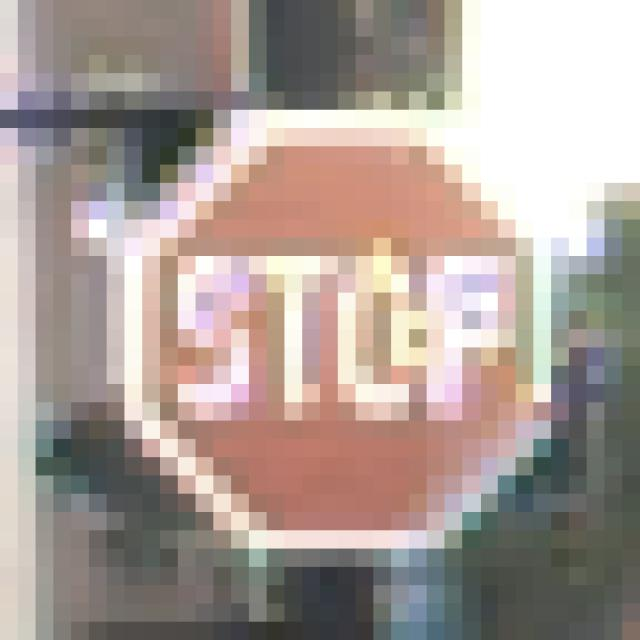STOP: (108, 93, 552, 550)
